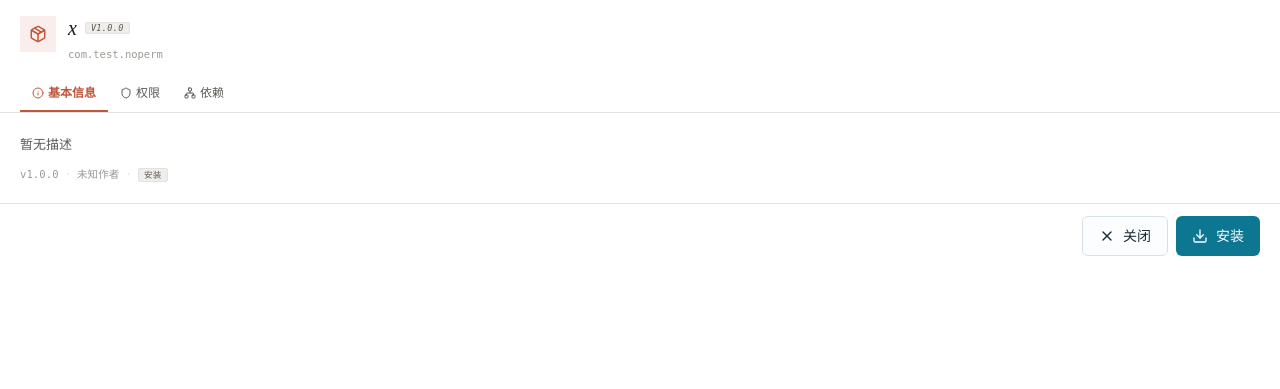
Test case: BUG-B: 权限 tab 安装前展示索引声明的权限 › 未安装且索引未声明权限时，仍显示空状态提示
Click the tab with test id "pmd-tab-permissions" at (140, 94), box [108,76,172,112]
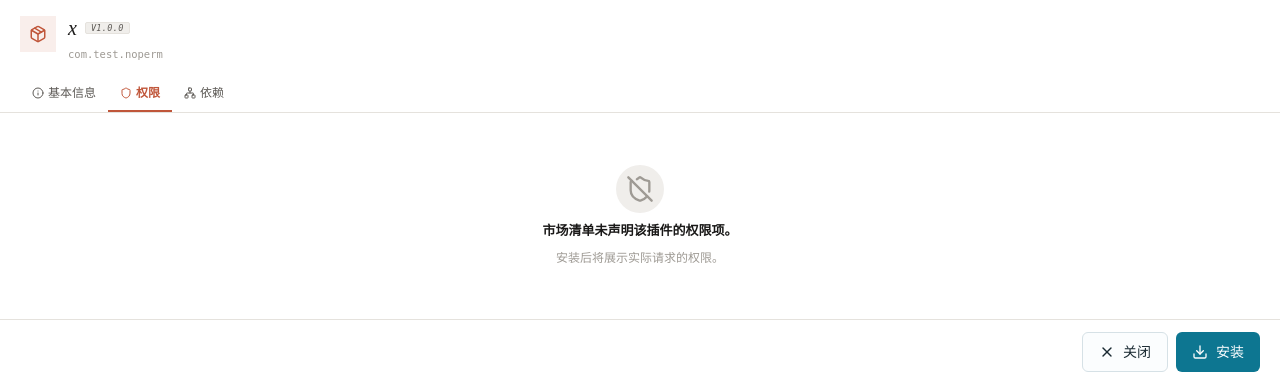
Result: the text "市场清单未声明该插件的权限项。" is shown at [542,221,738,240]
